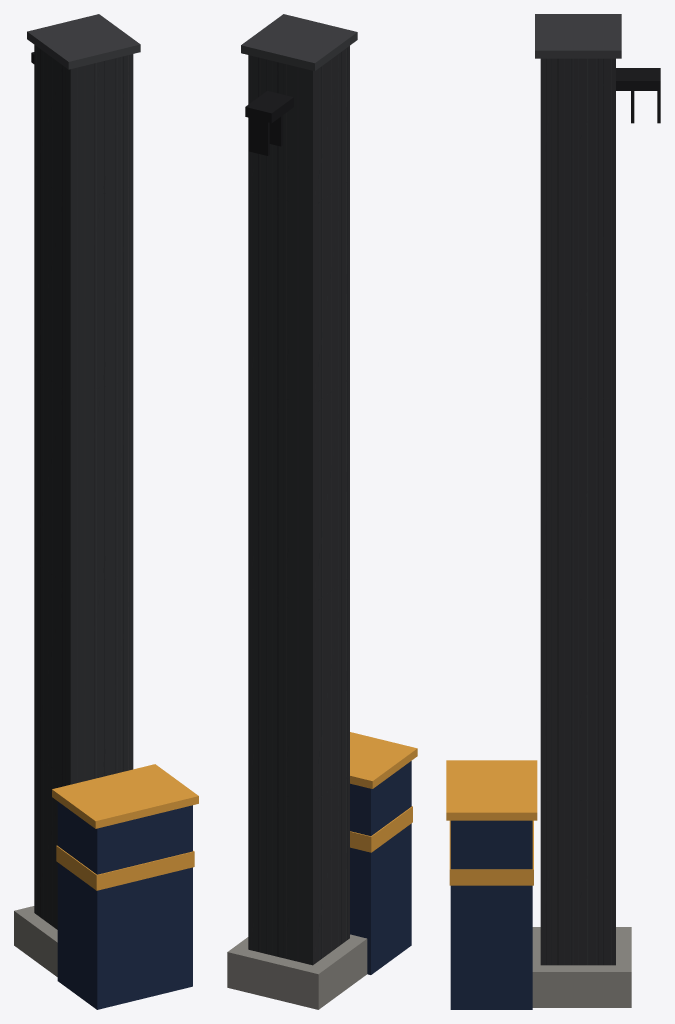
File: MinidoracatKnoxPass_slidemotor2_C.glb
3 views of the same model, side by side, from view 1: azimuth 30°, elevation 25°; view 2: azimuth 150°, elevation 25°; view 3: azimuth 270°, elevation 25° (orthographic). The views are drawn at different scales.
Visible parts, largest first — view 1: MinidoracatKnoxPass_slidemotor2_C; view 2: MinidoracatKnoxPass_slidemotor2_C; view 3: MinidoracatKnoxPass_slidemotor2_C.
Boxes of the visible parts, x1,y1,x2,y2 form: MinidoracatKnoxPass_slidemotor2_C: [14, 14, 198, 1009]; MinidoracatKnoxPass_slidemotor2_C: [227, 14, 417, 1009]; MinidoracatKnoxPass_slidemotor2_C: [446, 14, 660, 1009].
Bounding box in the file's own units: 0.56 × 4.74 × 0.967.
Materials: 1 (1 with a texture image).
